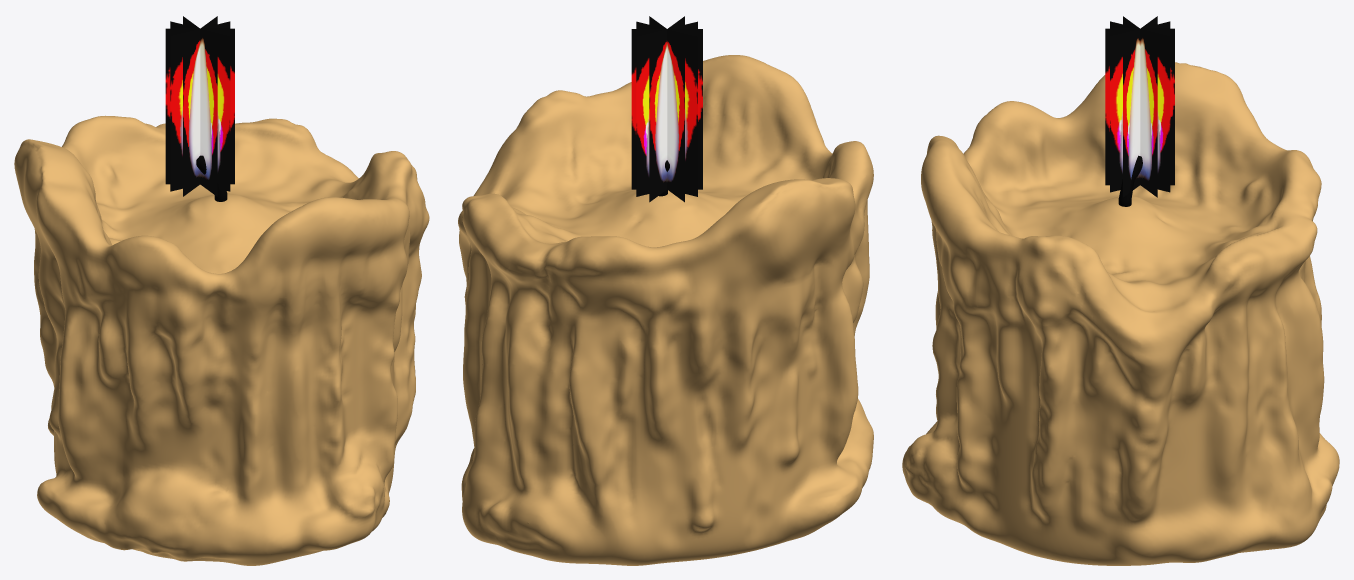
File: melted_candle.glb
3 renders of one model, left to right at view 1: azimuth 30°, elevation 25°; view 2: azimuth 150°, elevation 25°; view 3: azimuth 270°, elevation 25°, orthographic. The views are drawn at different scales.
Parts seen in each view (by area): view 1: Cylinder, candle flame.003, candle flame, candle flame.004, candle flame.015, candle flame.010; view 2: Cylinder, candle flame, candle flame.010, candle flame.013, candle flame.015, candle flame.003; view 3: Cylinder, candle flame.003, candle flame.010, candle flame.013, candle flame.004, candle flame.
Boxes of the visible parts, box(x1,y1,x2,y2) form: Cylinder: box(14, 115, 429, 565); candle flame.003: box(183, 16, 217, 196); candle flame: box(183, 16, 217, 196); candle flame.004: box(170, 21, 230, 191); candle flame.015: box(170, 21, 230, 191); candle flame.010: box(165, 28, 234, 184); Cylinder: box(458, 55, 873, 565); candle flame: box(649, 16, 684, 202); candle flame.010: box(649, 16, 684, 202); candle flame.013: box(636, 21, 697, 196); candle flame.015: box(636, 21, 697, 196); candle flame.003: box(631, 29, 702, 189); Cylinder: box(902, 62, 1339, 565); candle flame.003: box(1123, 16, 1157, 197); candle flame.010: box(1123, 16, 1157, 197); candle flame.013: box(1110, 21, 1170, 192); candle flame.004: box(1110, 21, 1170, 192); candle flame: box(1105, 28, 1174, 185).
Bounding box in the file's own units: 70.69 × 86.86 × 73.12.
3 materials, 1 textured.
